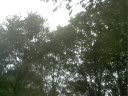window: (26, 0, 128, 96)
